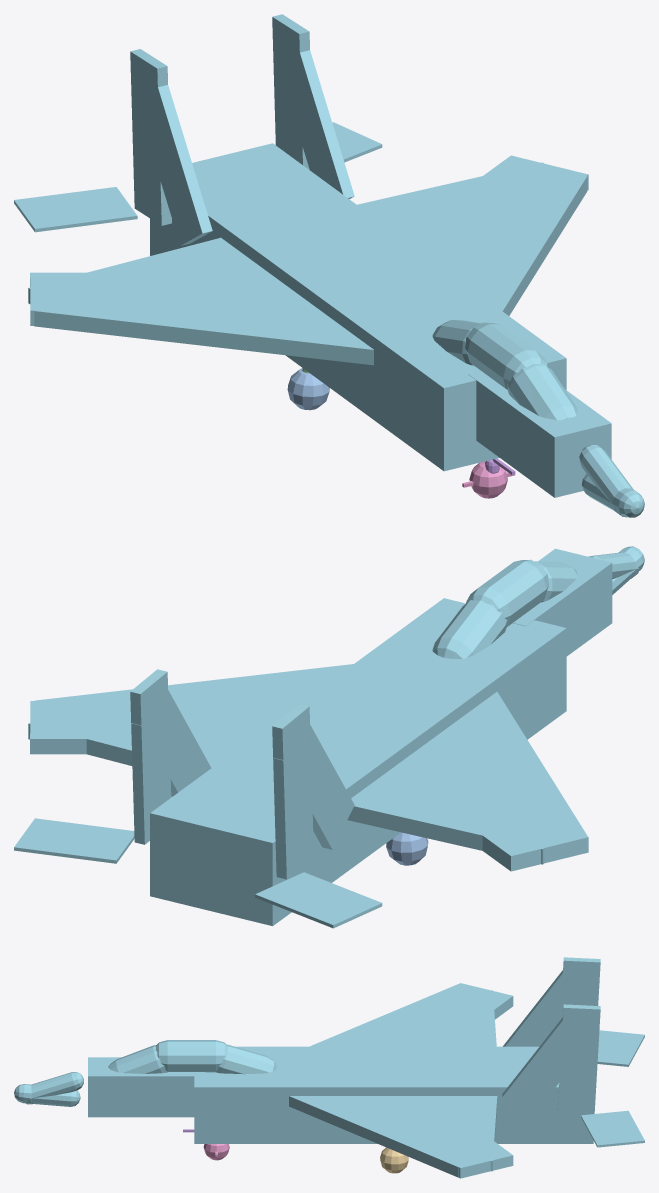
File: airplane-fwg-01.glb
The picture shows the model from 3 angles, top to bottom: view 1: azimuth 30°, elevation 25°; view 2: azimuth 150°, elevation 25°; view 3: azimuth 270°, elevation 25°; orthographic projection. The views are drawn at different scales.
Visible parts, largest first — view 1: body_J, wheelR_J, wheelF_J; view 2: body_J, wheelR_J; view 3: body_J, wheelL_J, wheelF_J.
Boxes of the visible parts, x1,y1,x2,y2 form: body_J: (14, 14, 644, 517); wheelR_J: (287, 368, 329, 410); wheelF_J: (462, 461, 514, 498); body_J: (14, 546, 644, 928); wheelR_J: (386, 832, 428, 865); body_J: (14, 957, 644, 1178); wheelL_J: (380, 1147, 408, 1173); wheelF_J: (203, 1144, 229, 1160).
Size of the model in its own units: 13.29 by 5.91 by 19.13.
